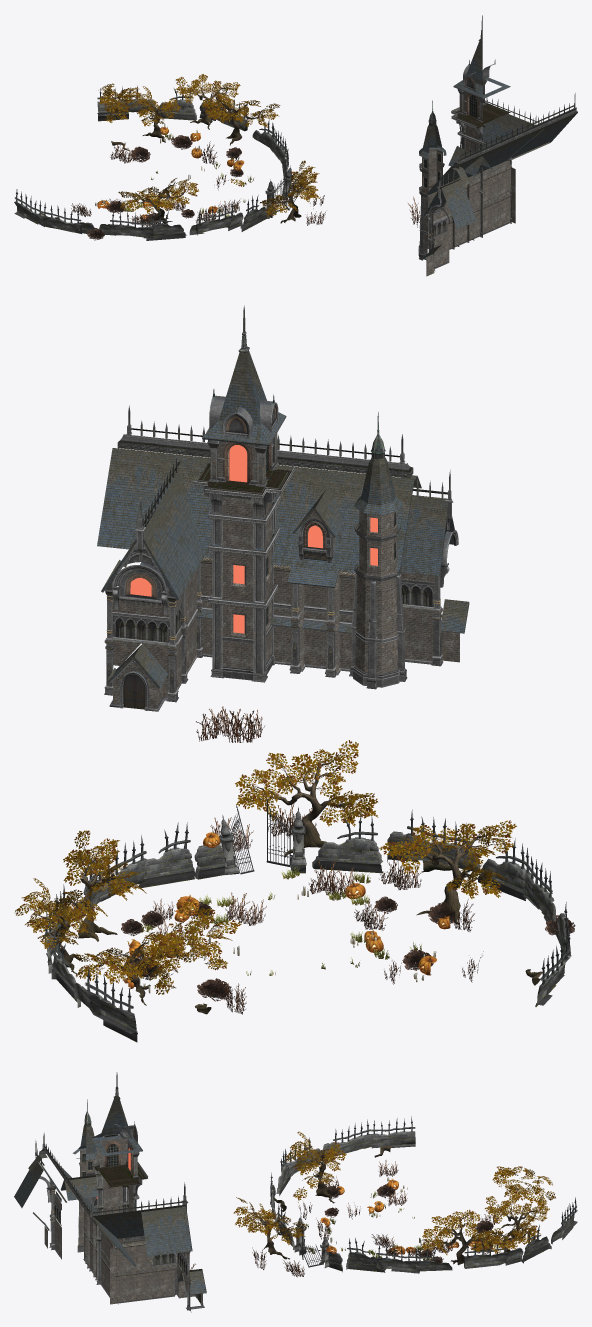
The model's file is HalloweenLobby.fbx.
3 renders of one model, top to bottom at view 1: azimuth 30°, elevation 25°; view 2: azimuth 150°, elevation 25°; view 3: azimuth 270°, elevation 25°, orthographic. The views are drawn at different scales.
Parts seen in each view (by area): view 1: HalloweenLobby; view 2: HalloweenLobby; view 3: HalloweenLobby.
Part boxes in pixels (x1,y1,x2,y2): HalloweenLobby: (14,15,577,276); HalloweenLobby: (14,305,575,1042); HalloweenLobby: (14,1072,577,1312).
Size of the model in its own units: 40.68 by 22.9 by 47.63.
Materials: 12 (10 with a texture image).
